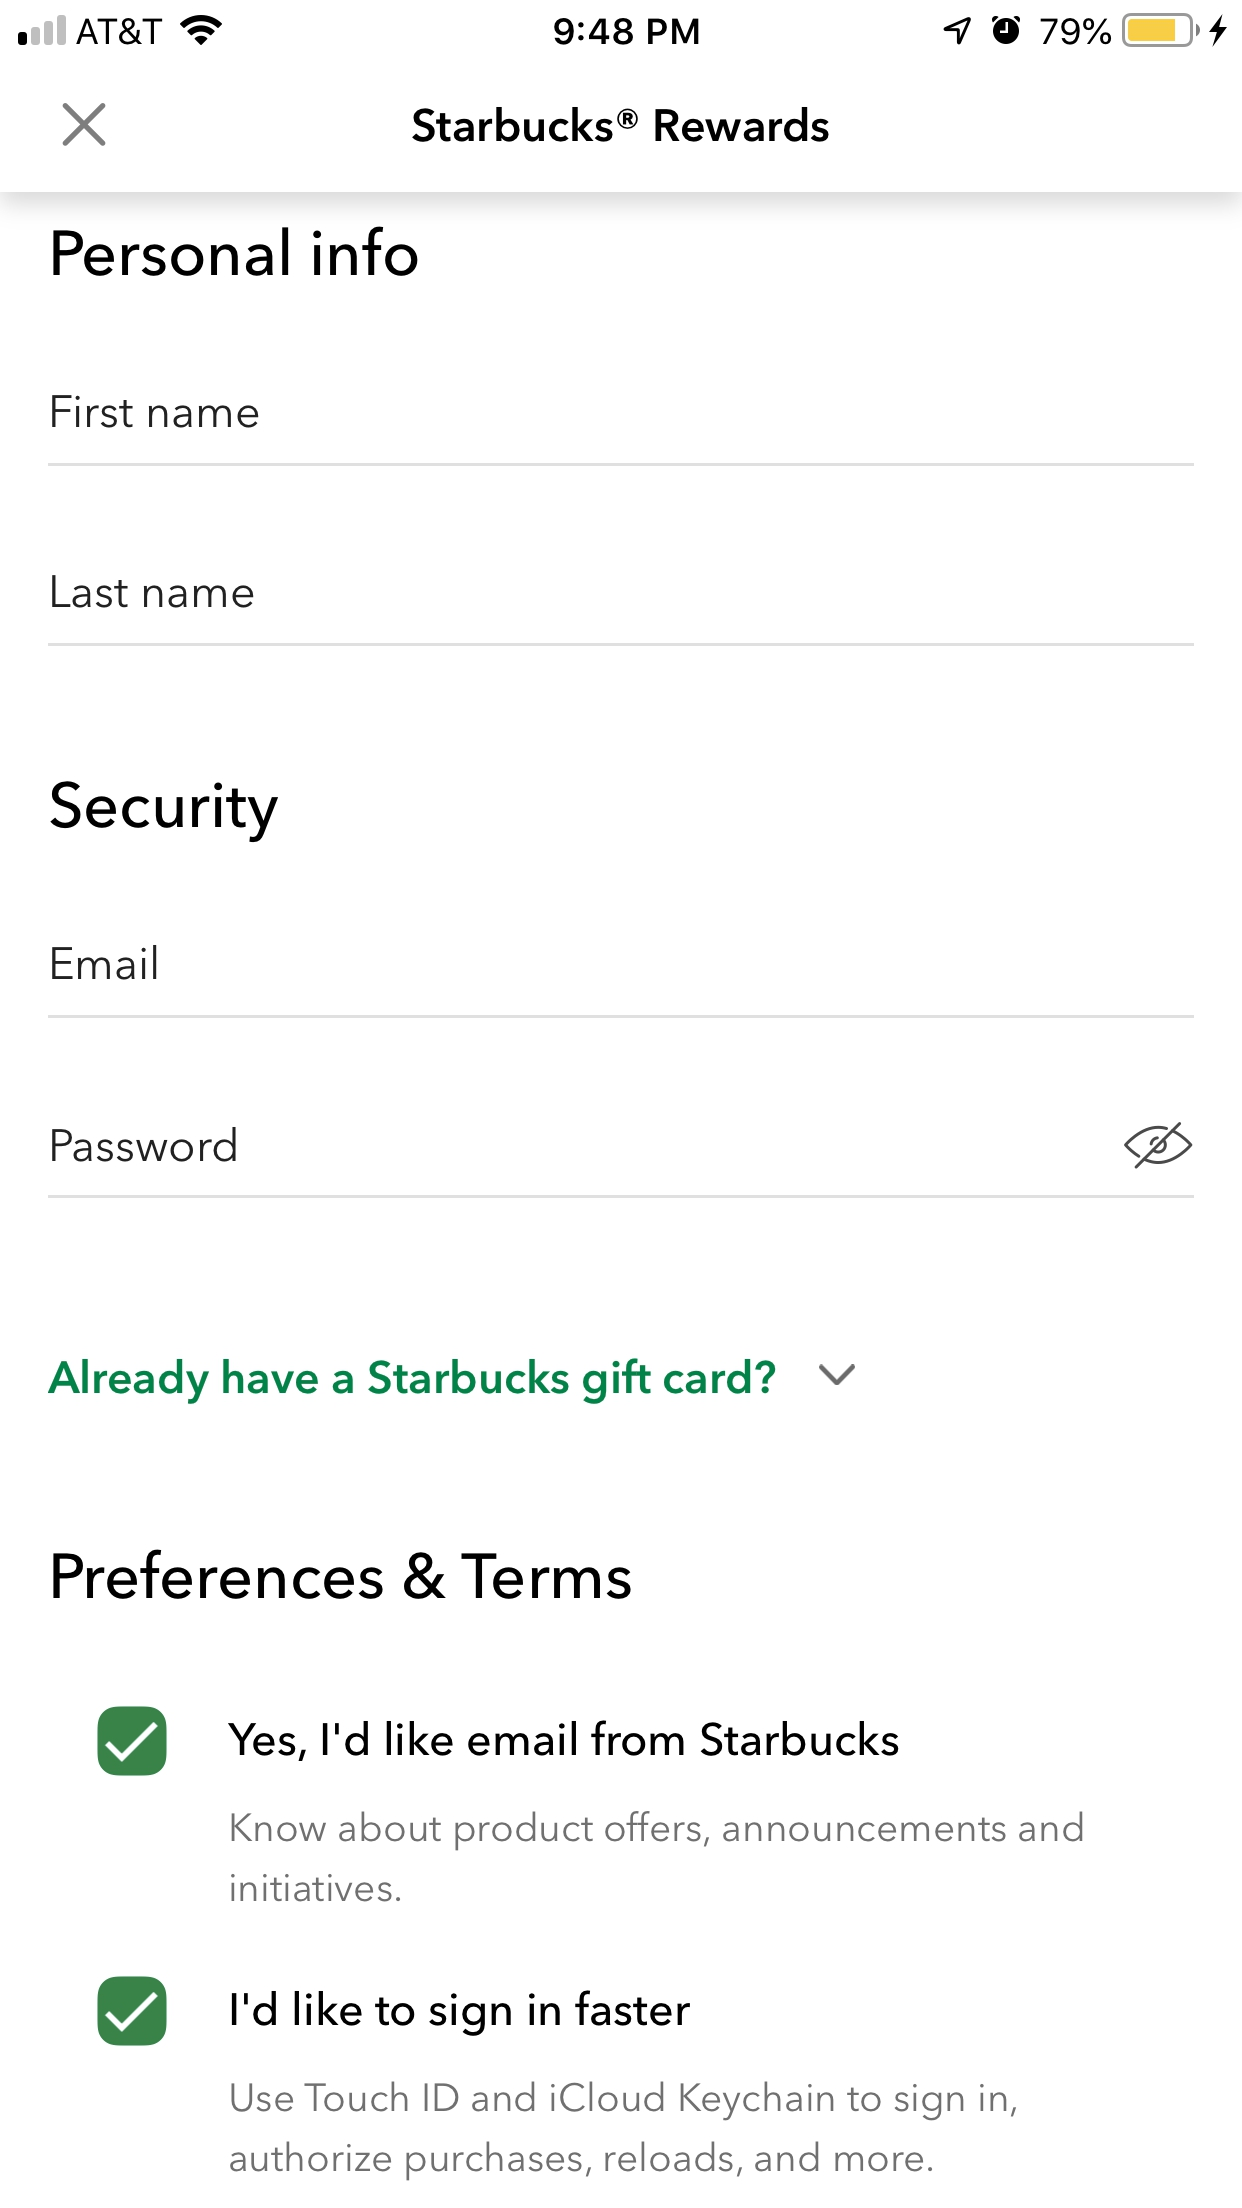CheckedTextView: (99, 1706, 899, 1776), (99, 1974, 692, 2046)
EditText: (49, 1122, 1195, 1200), (49, 945, 1195, 1019), (49, 394, 1193, 469), (49, 575, 1195, 648)
Icon: (1124, 1122, 1193, 1171), (64, 103, 108, 149), (819, 1363, 855, 1386)
Text: (231, 1811, 1084, 1903), (231, 2081, 1018, 2181), (49, 1357, 776, 1404), (53, 1548, 632, 1600), (227, 1721, 899, 1762), (232, 1990, 692, 2037), (53, 227, 419, 278), (412, 108, 830, 144), (52, 781, 281, 845), (52, 394, 259, 429), (52, 1127, 238, 1163), (52, 576, 255, 610), (52, 945, 158, 981)
UpperTaskBar: (2, 2, 1242, 49)
